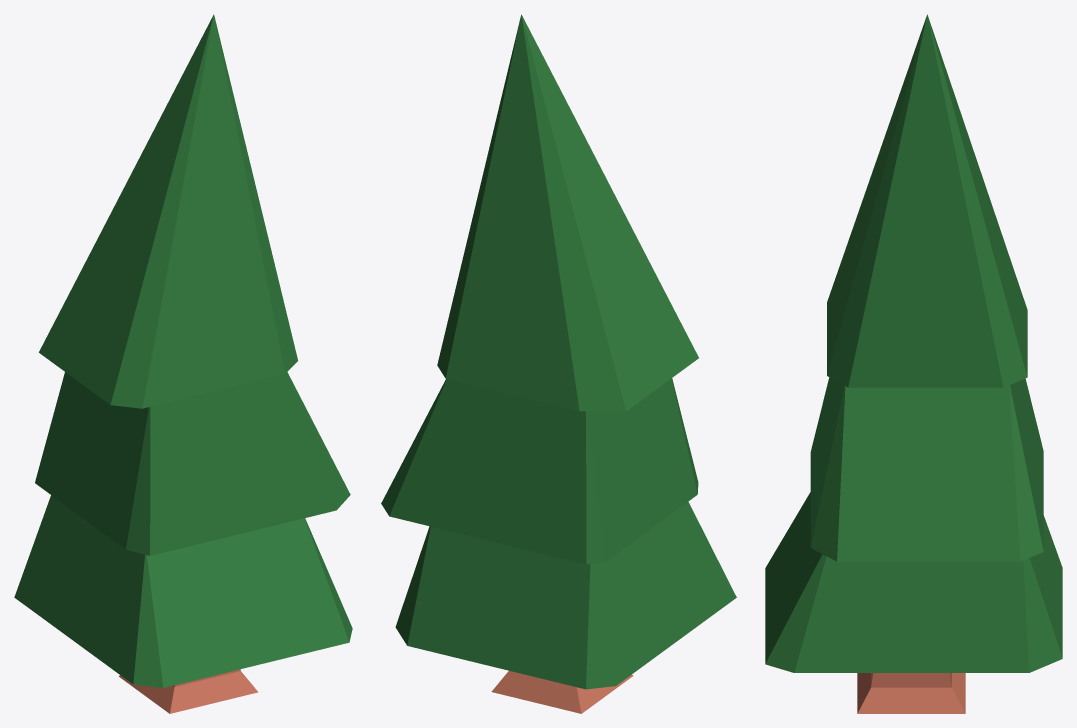
The model's file is tree_pineSmallB.glb.
3 renders of one model, left to right at view 1: azimuth 30°, elevation 25°; view 2: azimuth 150°, elevation 25°; view 3: azimuth 270°, elevation 25°, orthographic. The views are drawn at different scales.
Parts seen in each view (by area): view 1: tree_pineSmallB; view 2: tree_pineSmallB; view 3: tree_pineSmallB.
Part boxes in pixels (x1,y1,x2,y2): tree_pineSmallB: (14, 14, 352, 713); tree_pineSmallB: (381, 14, 736, 713); tree_pineSmallB: (765, 14, 1062, 713).
Bounding box in the file's own units: 0.3863 × 1.01 × 0.392.
